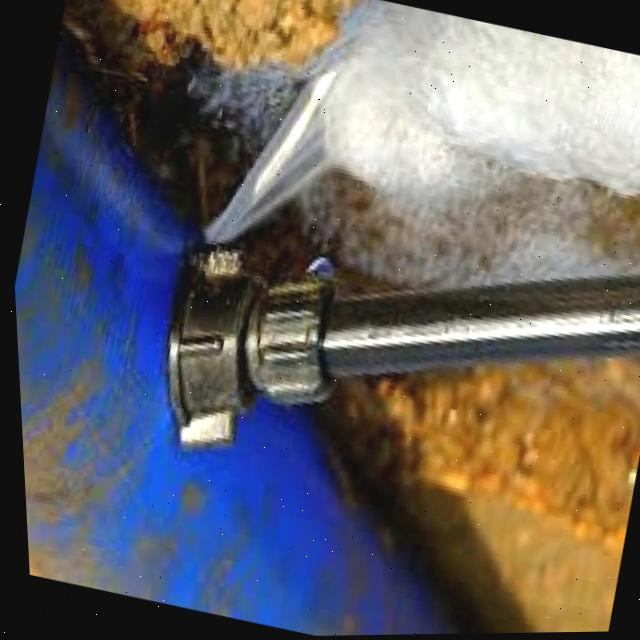corrosion: (136, 131, 292, 310)
